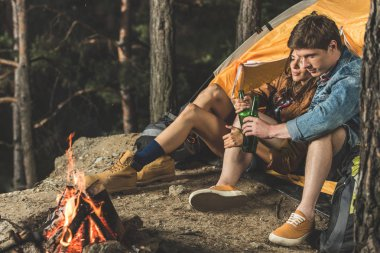fire: (61, 161, 100, 239)
